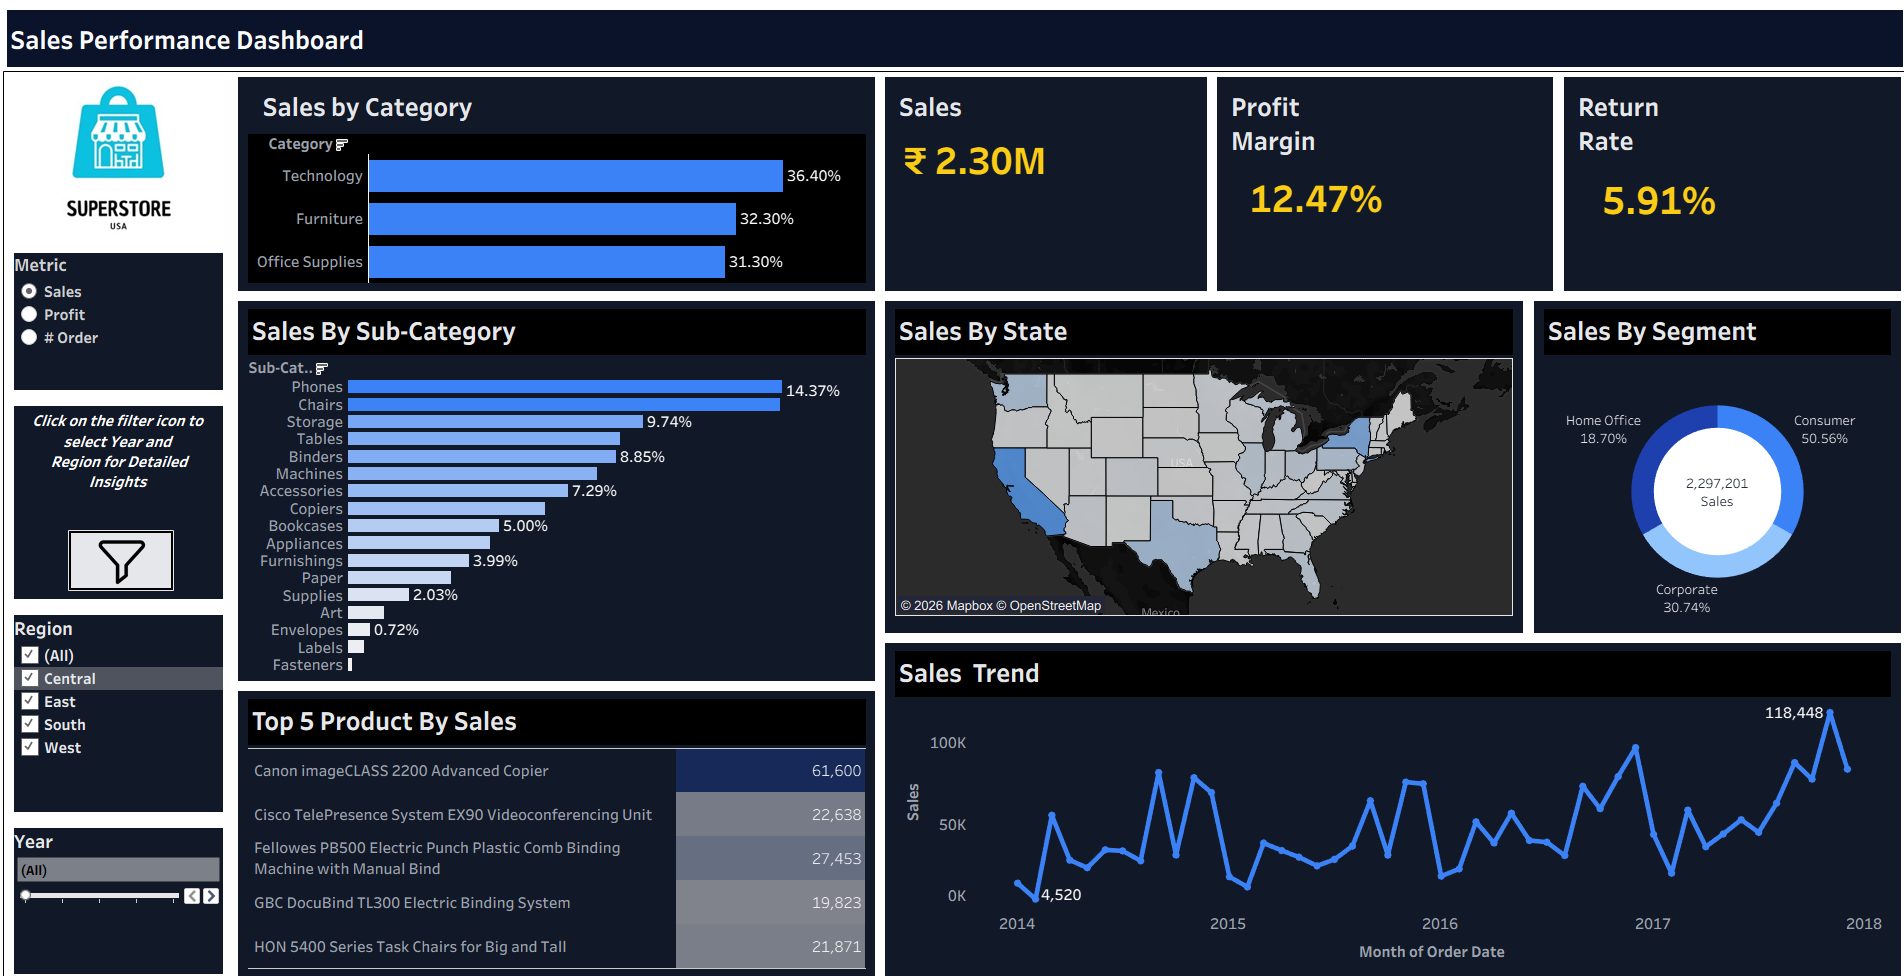

Layout of this report page (visuals, bound fields, positions):
{"tool":"tableau","page":{"name":"Dashboard (Superstore Data Analytics","canvas":[1000,1000],"units":"permille","ordinal":0},"visuals":[{"type":"text","box":[4.8,10,990.5,64.9]},{"type":"image","param":"Image/SUPERSTORE LOGO.jpg","box":[5.3,76.1,119,173.5]},{"type":"worksheet","title":"Category","mark":"Automatic","rows":["Category"],"cols":["Calculation_1548675373732806675"],"box":[124.3,76.1,336.9,224.7]},{"type":"worksheet","title":"Metric ","mark":"Automatic","box":[461.2,76.1,172.6,224.7]},{"type":"worksheet","title":"Profit Margin","mark":"Automatic","box":[633.8,76.1,180.2,224.7]},{"type":"worksheet","title":"Return Rate","mark":"Automatic","box":[814.1,76.1,180.6,224.7]},{"type":"parameter","param":"[Parameters].[Parameter 2]","box":[5.3,249.7,119,153.6]},{"type":"worksheet","title":"Sub-category","mark":"Automatic","rows":["Sub-Category"],"cols":["Calculation_1548675373732806675"],"box":[124.3,300.8,336.9,390.8]},{"type":"worksheet","title":"State Map","mark":"Multipolygon","box":[461.2,300.8,337.2,343.4]},{"type":"worksheet","title":"Segment","mark":"Pie","rows":["Calculation_1548675373795971100","Calculation_1548675373795983390"],"box":[798.4,300.8,196.2,343.4]},{"type":"text","box":[11.3,413.2,107.1,114.9]},{"type":"dashboard-object","box":[38,535.6,55.3,61.2]},{"type":"filter","title":"Profit Margin","param":"[federated.16yib8r0vd7dnn18hlbif0zzg0b7].[none:Region:nk]","box":[5.3,613,119,213.5]},{"type":"worksheet","title":"Sales Trend","mark":"Line","rows":["Calculation_1548675373732806675"],"cols":["Order Date"],"box":[461.2,644.2,533.4,344.6]},{"type":"worksheet","title":"TOP 5 Product By Sales","mark":"Square","rows":["Product Name"],"box":[124.3,691.6,336.9,297.2]},{"type":"filter","title":"Metric ","param":"[federated.16yib8r0vd7dnn18hlbif0zzg0b7].[yr:Order Date:ok]","box":[5.3,826.4,119,162.3]}]}

Visuals, with their boxes on the dashboard's canvas, which has no fixed pixel size, in thousandths of its width and height (x1, y1, x2, y2). These are canvas units, not pixel positions in the 1904x976 screenshot, which may show the page scaled, cropped or inside an application window:
text: 5/10/995/75
image: 5/76/124/250
"Category" worksheet: 124/76/461/301
"Metric " worksheet: 461/76/634/301
"Profit Margin" worksheet: 634/76/814/301
"Return Rate" worksheet: 814/76/995/301
parameter: 5/250/124/403
"Sub-category" worksheet: 124/301/461/692
"State Map" worksheet (Multipolygon marks): 461/301/798/644
"Segment" worksheet (Pie marks): 798/301/995/644
text: 11/413/118/528
dashboard-object: 38/536/93/597
"Profit Margin" filter: 5/613/124/826
"Sales Trend" worksheet (Line marks): 461/644/995/989
"TOP 5 Product By Sales" worksheet (Square marks): 124/692/461/989
"Metric " filter: 5/826/124/989
